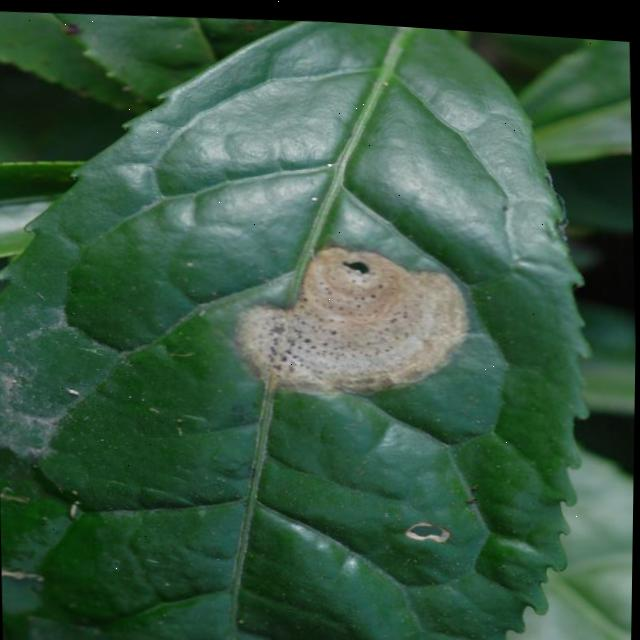Tea cloud leaf blight: (233, 223, 472, 430)
